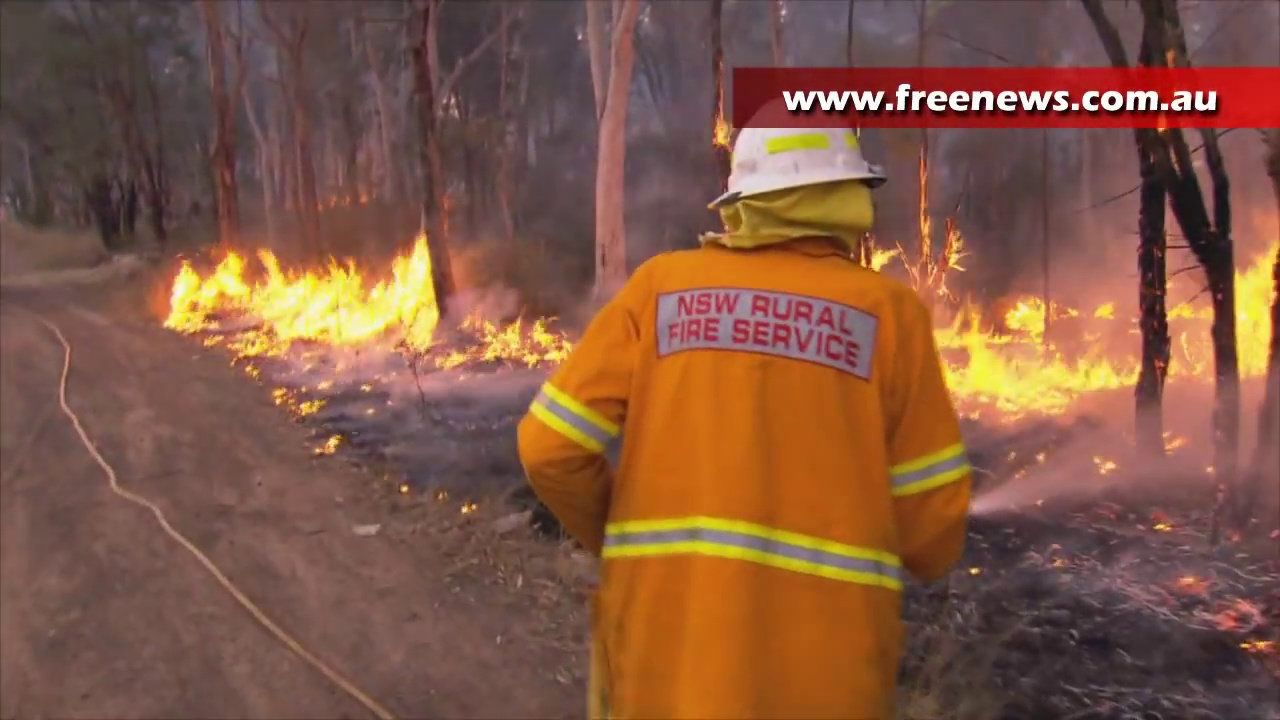fire: (168, 231, 432, 357), (941, 279, 1137, 412), (470, 317, 563, 366), (1234, 271, 1269, 381), (868, 245, 897, 275), (716, 117, 729, 149)
